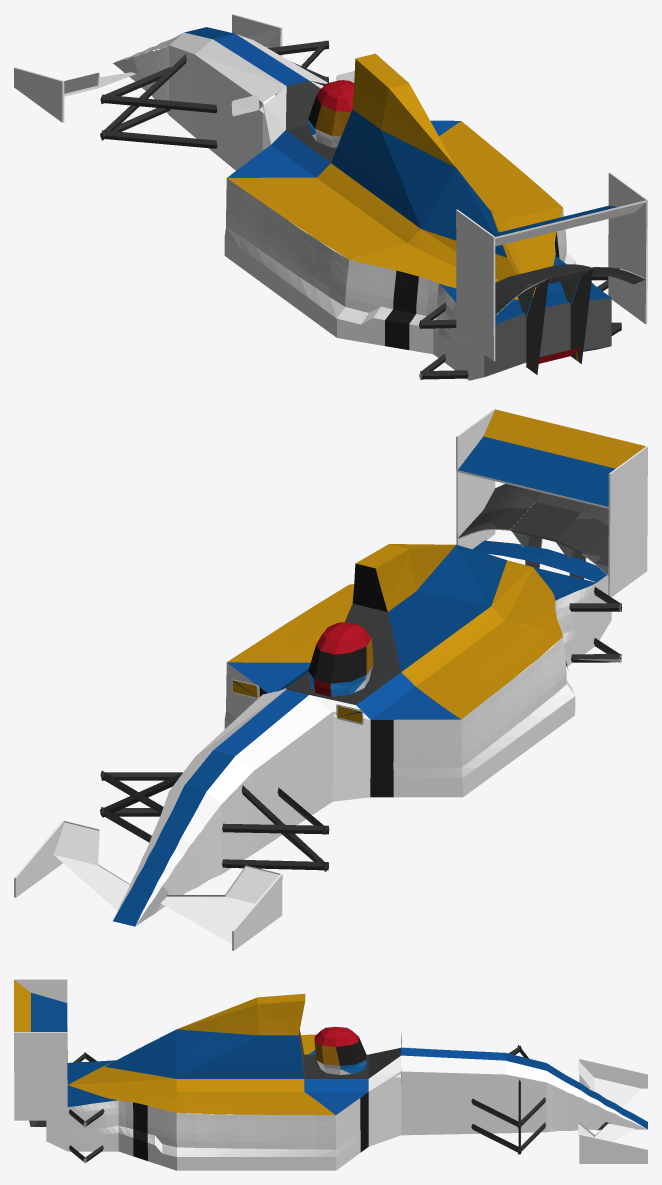
The model's file is F1_2009_fw31_chassis.glb.
3 views of the same model, one above another, from view 1: azimuth 30°, elevation 25°; view 2: azimuth 150°, elevation 25°; view 3: azimuth 270°, elevation 25° (orthographic). The views are drawn at different scales.
Parts seen in each view (by area): view 1: GEO_CHASSIS, GEO_AERO_REAR_WING, GEO_SUSPENSION_FL, GEO_AERO_FRONT_WING, GEO_DRIVER_HELMET, GEO_NOSE, GEO_SUSPENSION_RL, GEO_SUSPENSION_FR; view 2: GEO_CHASSIS, GEO_AERO_REAR_WING, GEO_AERO_FRONT_WING, GEO_NOSE, GEO_DRIVER_HELMET, GEO_SUSPENSION_FL, GEO_SUSPENSION_FR, GEO_SUSPENSION_RL; view 3: GEO_CHASSIS, GEO_AERO_REAR_WING, GEO_AERO_FRONT_WING, GEO_NOSE, GEO_DRIVER_HELMET, GEO_SUSPENSION_FR, GEO_SUSPENSION_RR.
Boxes of the visible parts, x1=… form: GEO_CHASSIS: x1=169, y1=27, x2=611, y2=380; GEO_AERO_REAR_WING: x1=456, y1=172, x2=647, y2=374; GEO_SUSPENSION_FL: x1=100, y1=54, x2=217, y2=148; GEO_AERO_FRONT_WING: x1=14, y1=14, x2=282, y2=122; GEO_DRIVER_HELMET: x1=308, y1=80, x2=354, y2=147; GEO_NOSE: x1=113, y1=33, x2=182, y2=114; GEO_SUSPENSION_RL: x1=419, y1=302, x2=468, y2=379; GEO_SUSPENSION_FR: x1=268, y1=40, x2=329, y2=95; GEO_CHASSIS: x1=169, y1=540, x2=611, y2=874; GEO_AERO_REAR_WING: x1=456, y1=409, x2=647, y2=597; GEO_AERO_FRONT_WING: x1=14, y1=820, x2=282, y2=950; GEO_NOSE: x1=113, y1=786, x2=221, y2=926; GEO_DRIVER_HELMET: x1=308, y1=622, x2=373, y2=696; GEO_SUSPENSION_FL: x1=222, y1=785, x2=329, y2=871; GEO_SUSPENSION_FR: x1=100, y1=770, x2=182, y2=842; GEO_SUSPENSION_RL: x1=569, y1=587, x2=622, y2=662; GEO_CHASSIS: x1=46, y1=993, x2=546, y2=1170; GEO_AERO_REAR_WING: x1=14, y1=979, x2=67, y2=1126; GEO_AERO_FRONT_WING: x1=578, y1=1058, x2=647, y2=1163; GEO_NOSE: x1=546, y1=1063, x2=647, y2=1132; GEO_DRIVER_HELMET: x1=314, y1=1026, x2=366, y2=1074; GEO_SUSPENSION_FR: x1=471, y1=1079, x2=545, y2=1154; GEO_SUSPENSION_RR: x1=69, y1=1108, x2=104, y2=1163.
Size of the model in its own units: 1.31 by 0.9817 by 4.26.
Materials: 19 (19 with a texture image).
